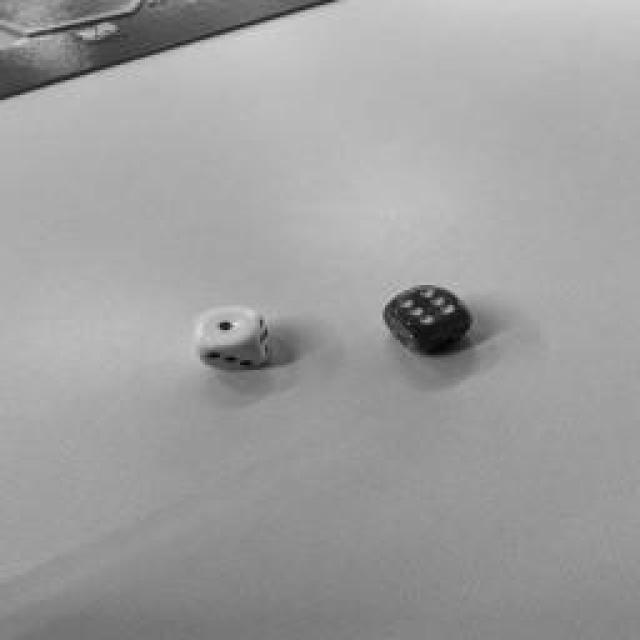dice_1: (194, 308, 256, 348)
dice_6: (391, 285, 464, 330)
